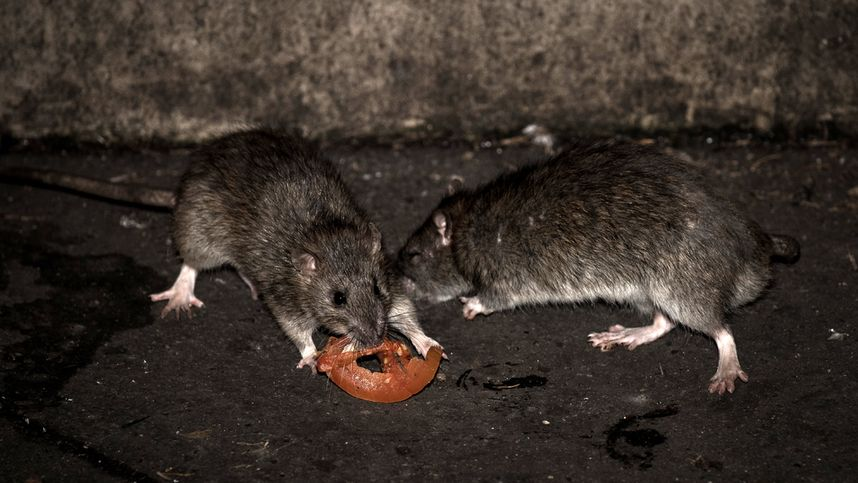rat: (364, 121, 787, 409), (124, 111, 407, 383)
